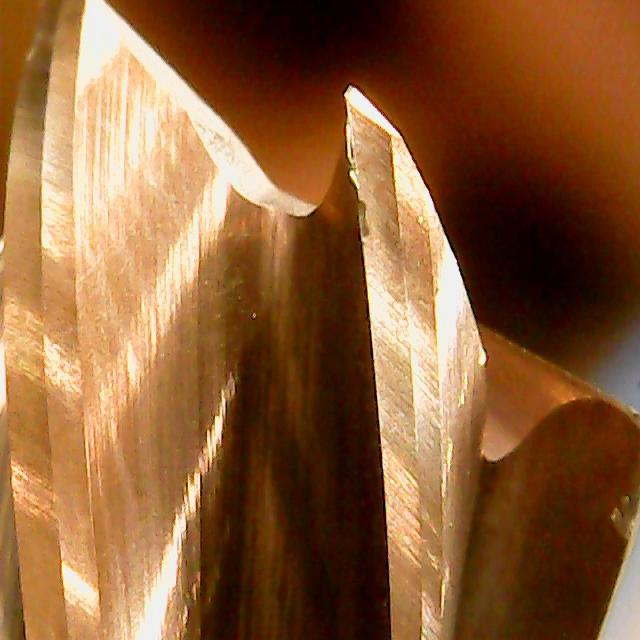Tool-wear-class-1: (307, 76, 477, 430)
